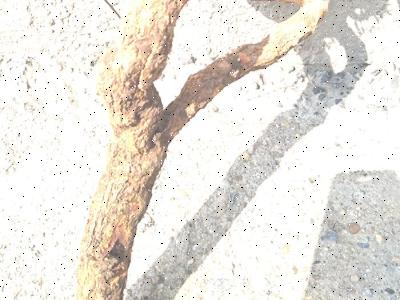Root: (77, 0, 329, 299), (140, 116, 142, 120)
